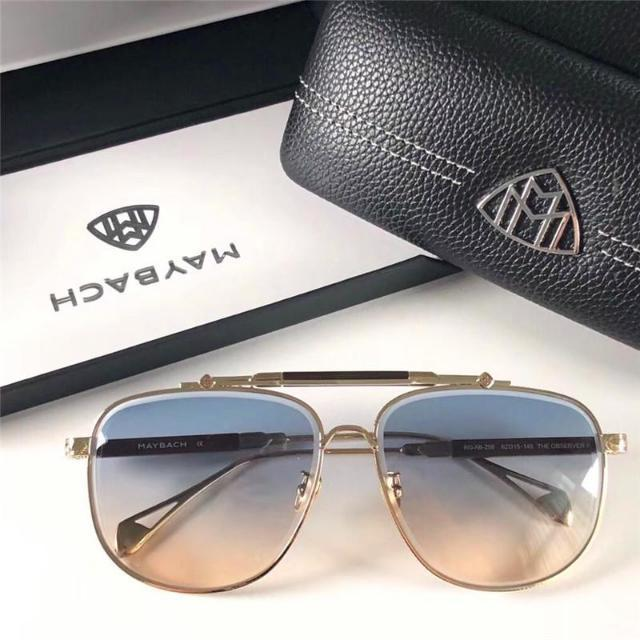glasses: (66, 368, 630, 594)
